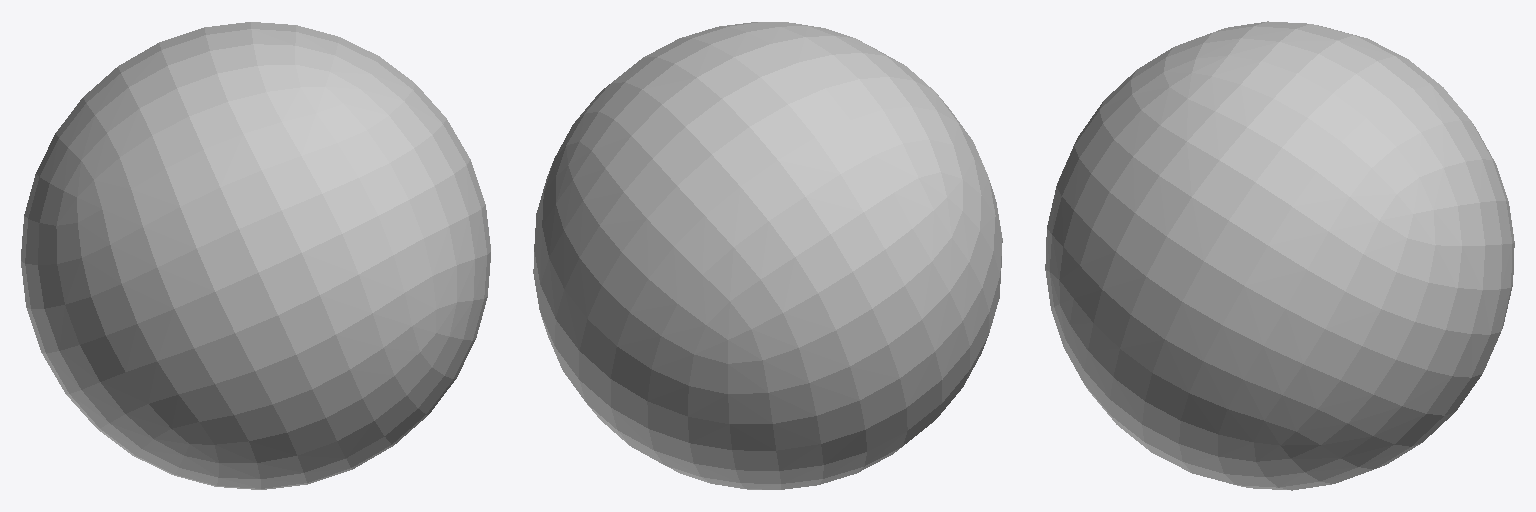
File: geoid.obj
3 views of the same model, side by side, from view 1: azimuth 30°, elevation 25°; view 2: azimuth 150°, elevation 25°; view 3: azimuth 270°, elevation 25° (orthographic).
Visible parts, largest first — view 1: Moon_Cube.002; view 2: Moon_Cube.002; view 3: Moon_Cube.002.
Boxes of the visible parts, x1,y1,x2,y2 form: Moon_Cube.002: [21, 22, 490, 489]; Moon_Cube.002: [533, 22, 1002, 489]; Moon_Cube.002: [1045, 21, 1514, 490].
Size of the model in its own units: 1 by 1 by 1.